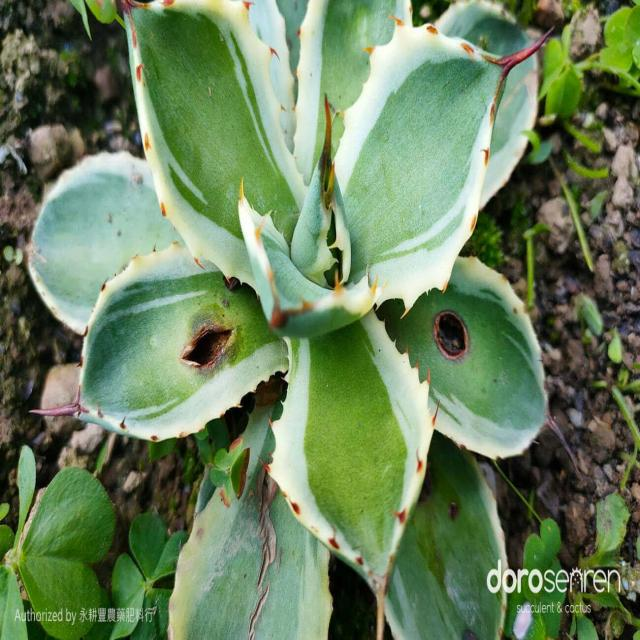-: (182, 324, 238, 369), (432, 307, 473, 360), (446, 489, 465, 521)
